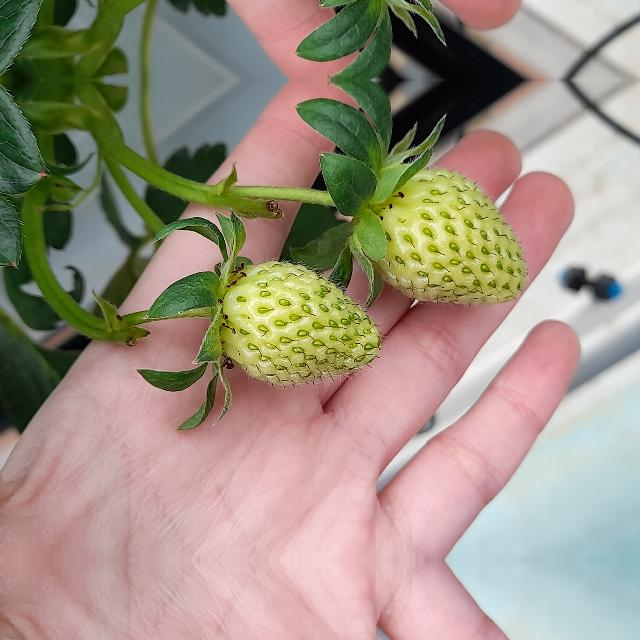Health_25: (218, 260, 382, 386)
